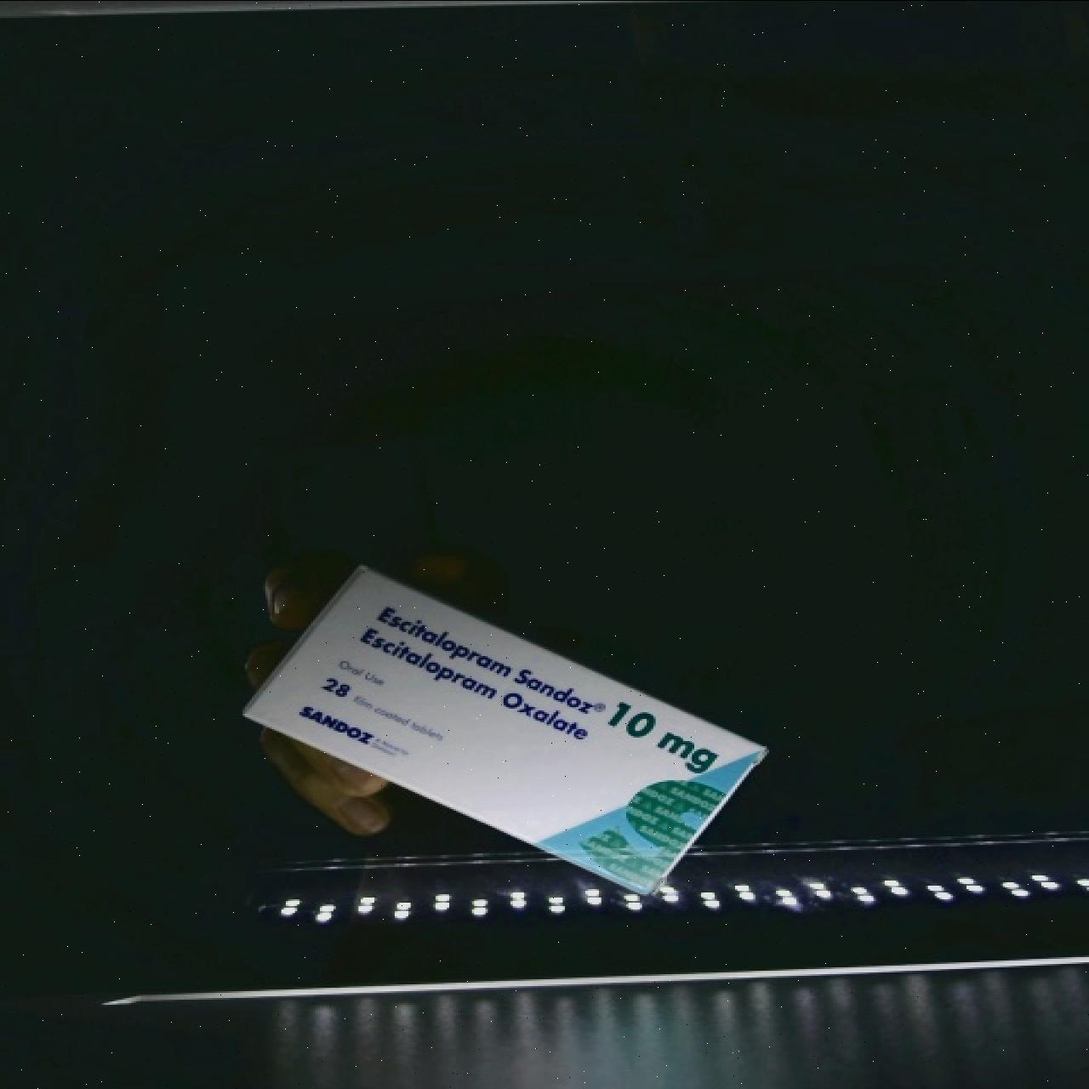medicine_label_obb: (327, 571, 632, 767)
